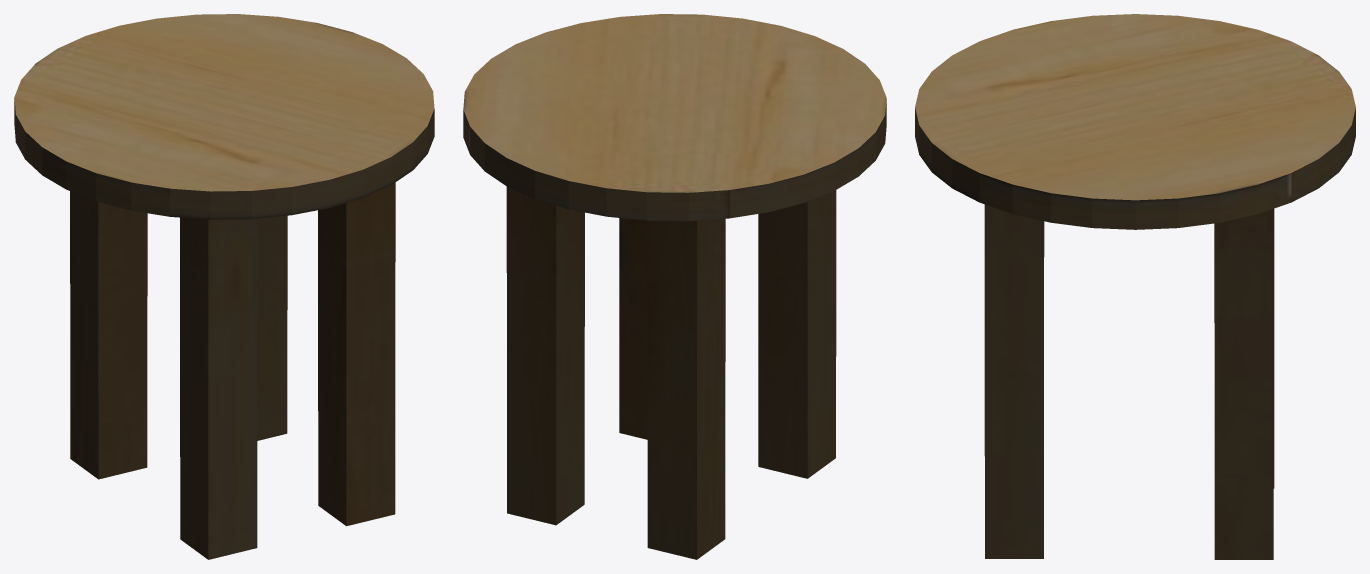
Rendered from small table.dae.
3 views of the same model, side by side, from view 1: azimuth 30°, elevation 25°; view 2: azimuth 150°, elevation 25°; view 3: azimuth 270°, elevation 25° (orthographic). The views are drawn at different scales.
Parts seen in each view (by area): view 1: Circle; view 2: Circle; view 3: Circle.
Part boxes in pixels (x1,y1,x2,y2): Circle: (14, 14, 434, 559); Circle: (463, 14, 886, 559); Circle: (915, 14, 1355, 559).
Size of the model in its own units: 0.1022 by 0.1022 by 0.1027.
1 material, 1 textured.
